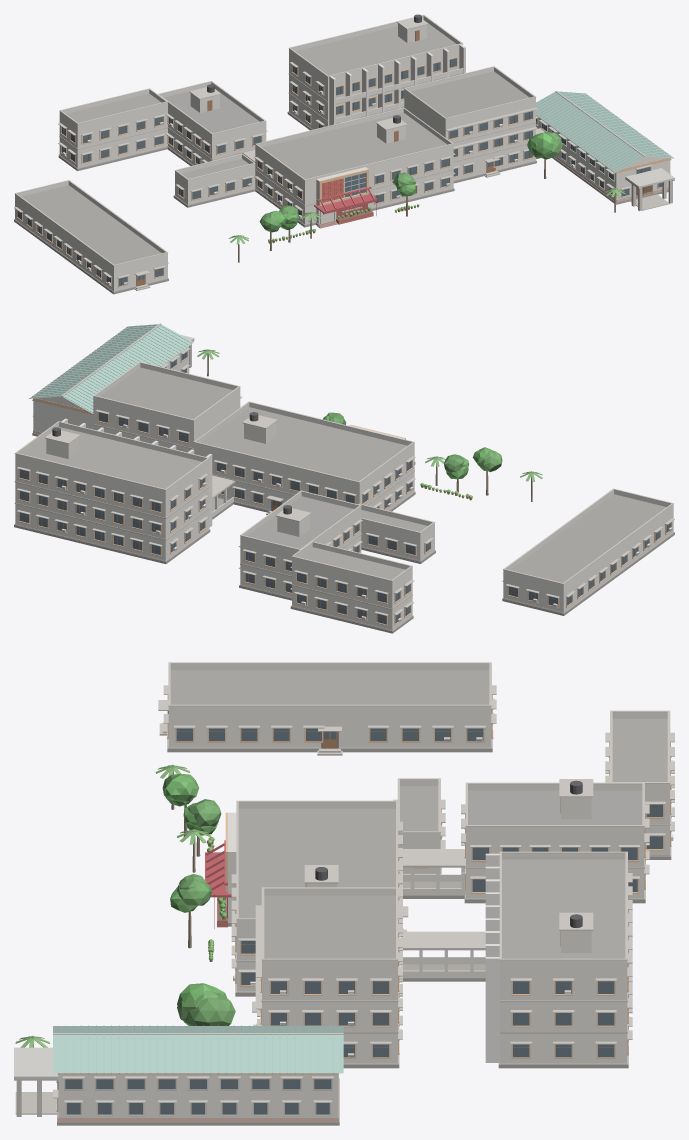
Rendered from iit_kgp_mining_dept.glb.
3 views of the same model, one above another, from view 1: azimuth 30°, elevation 25°; view 2: azimuth 150°, elevation 25°; view 3: azimuth 270°, elevation 25° (orthographic). The views are drawn at different scales.
Parts seen in each view (by area): view 1: Main Block (Entrance), North-West Wings, North-East Block, East Block (3 storey), Ground Stability Lab, Mining Machinery Lab, Landscape; view 2: North-East Block, North-West Wings, Main Block (Entrance), Ground Stability Lab, East Block (3 storey), Mining Machinery Lab, Landscape, Corridor Links; view 3: North-East Block, Mining Machinery Lab, Ground Stability Lab, North-West Wings, East Block (3 storey), Main Block (Entrance), Corridor Links, Landscape.
Boxes of the visible parts, x1,y1,x2,y2 form: Main Block (Entrance): (254, 107, 455, 228); North-West Wings: (58, 81, 267, 207); North-East Block: (287, 14, 465, 130); East Block (3 storey): (404, 66, 537, 183); Ground Stability Lab: (14, 180, 168, 294); Mining Machinery Lab: (536, 90, 674, 211); Landscape: (228, 132, 625, 262); North-East Block: (14, 418, 212, 563); North-West Wings: (238, 490, 435, 633); Main Block (Entrance): (193, 401, 415, 514); Ground Stability Lab: (502, 488, 674, 615); East Block (3 storey): (92, 361, 241, 452); Mining Machinery Lab: (29, 323, 194, 436); Landscape: (197, 349, 542, 501); Corridor Links: (212, 475, 235, 519); North-East Block: (485, 851, 632, 1068); Mining Machinery Lab: (14, 1025, 343, 1125); Ground Stability Lab: (158, 662, 496, 755); North-West Wings: (393, 710, 674, 903); East Block (3 storey): (252, 887, 402, 1068); Main Block (Entrance): (205, 800, 408, 996); Corridor Links: (399, 849, 485, 981); Landscape: (15, 764, 235, 1047).
Size of the model in its own units: 117 by 17.35 by 77.8.
